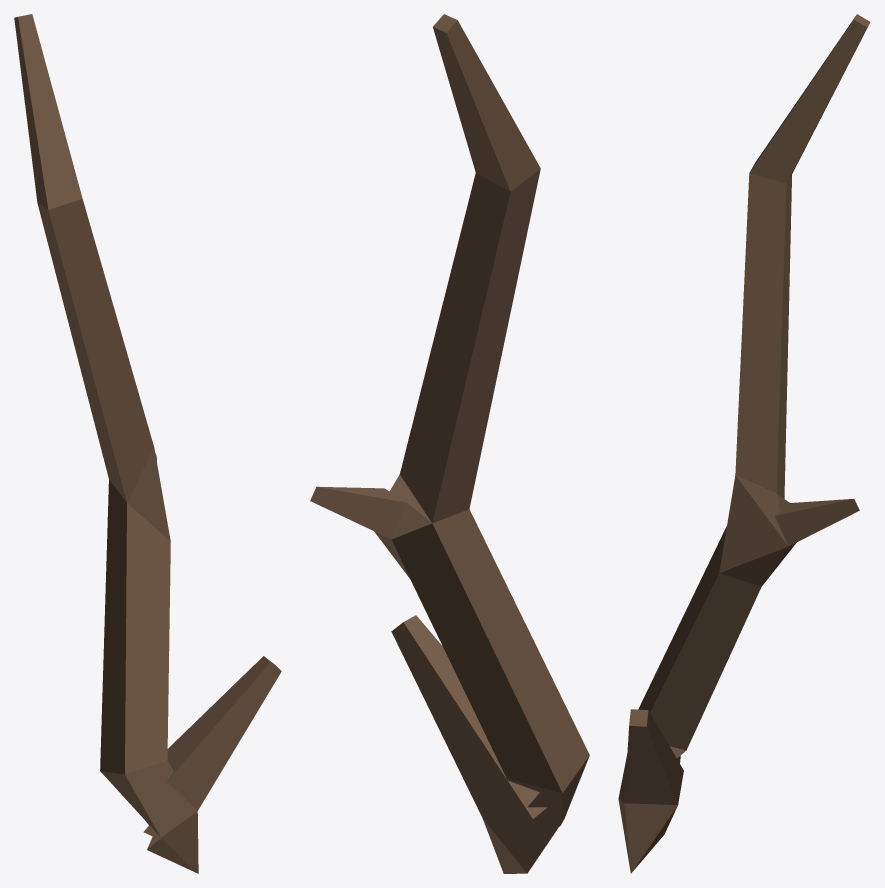
Rendered from stick_01.fbx.
3 views of the same model, side by side, from view 1: azimuth 30°, elevation 25°; view 2: azimuth 150°, elevation 25°; view 3: azimuth 270°, elevation 25° (orthographic). The views are drawn at different scales.
Visible parts, largest first — view 1: Cube; view 2: Cube; view 3: Cube.
Part boxes in pixels (<box>): Cube: <box>14,14,281,873</box>; Cube: <box>310,14,589,873</box>; Cube: <box>618,14,870,873</box>.
Size of the model in its own units: 11.46 by 49.96 by 13.84.
